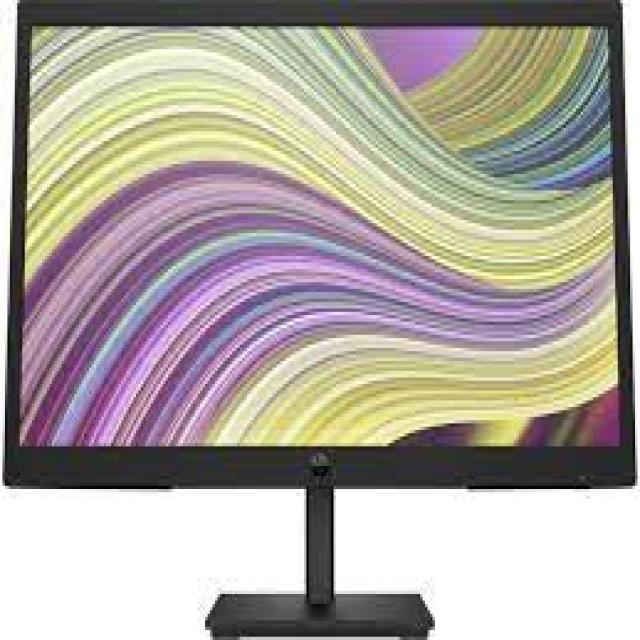monitor: (8, 1, 640, 640)
